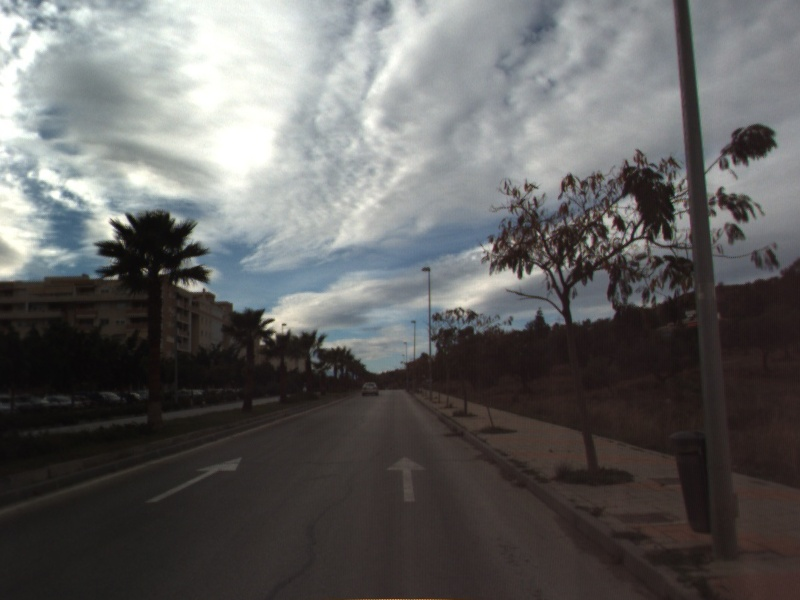STRAIGHT: (143, 455, 244, 505), (385, 454, 429, 504)
